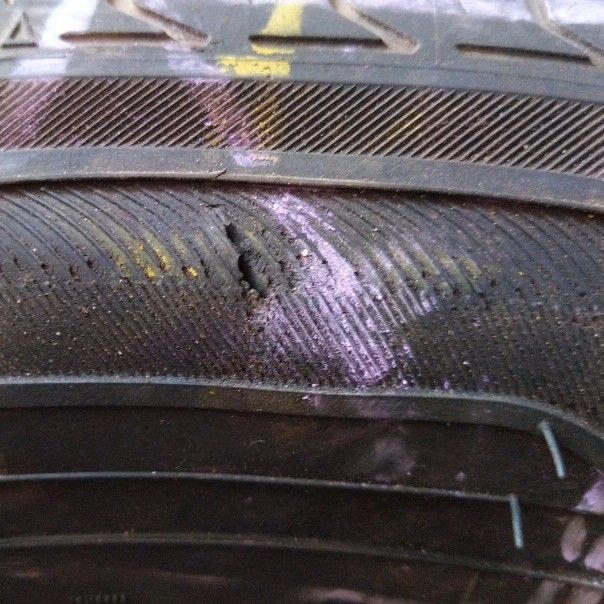cut: (221, 223, 274, 302)
